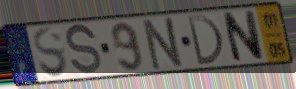9: (110, 20, 145, 73)
D: (185, 13, 226, 67)
N: (220, 8, 266, 65), (141, 15, 187, 72)
S: (64, 21, 104, 79), (32, 26, 71, 80)
